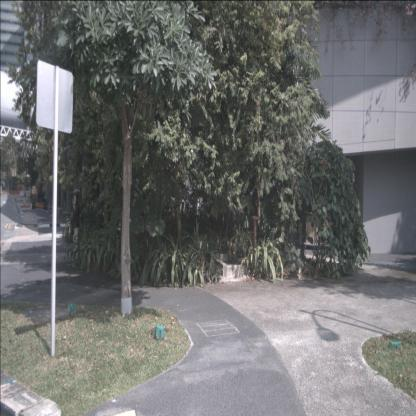barrier: (25, 190, 31, 196), (19, 191, 25, 196), (14, 190, 20, 195)
cone: (57, 206, 59, 216)
